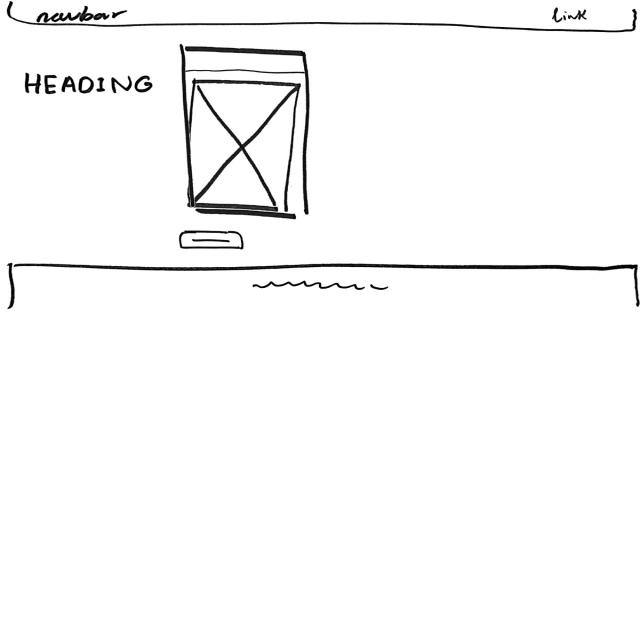container: (181, 46, 318, 220), (6, 1, 640, 34)
icon-button: (178, 231, 247, 252)
image: (189, 80, 300, 210)
label: (21, 72, 157, 98), (36, 7, 132, 23), (552, 6, 590, 23)
text: (252, 280, 393, 293)
